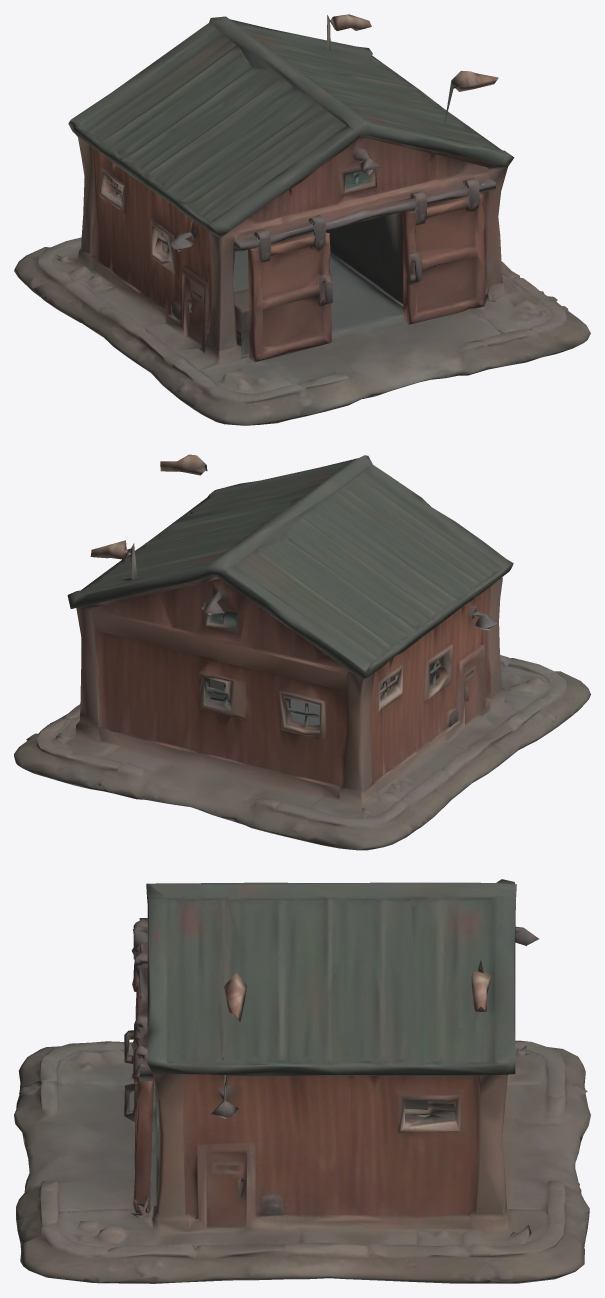
File: airport_hangar.glb
3 views of the same model, one above another, from view 1: azimuth 30°, elevation 25°; view 2: azimuth 150°, elevation 25°; view 3: azimuth 270°, elevation 25° (orthographic). The views are drawn at different scales.
Parts seen in each view (by area): view 1: tripo_node_6052da8f-1f0c-4b49-9285-1709925bd31e; view 2: tripo_node_6052da8f-1f0c-4b49-9285-1709925bd31e; view 3: tripo_node_6052da8f-1f0c-4b49-9285-1709925bd31e.
Part boxes in pixels (x1,y1,x2,y2): tripo_node_6052da8f-1f0c-4b49-9285-1709925bd31e: (14,14,590,425); tripo_node_6052da8f-1f0c-4b49-9285-1709925bd31e: (14,454,590,850); tripo_node_6052da8f-1f0c-4b49-9285-1709925bd31e: (14,879,590,1283).
Size of the model in its own units: 0.9524 by 0.5482 by 1.
Materials: 1 (1 with a texture image).
